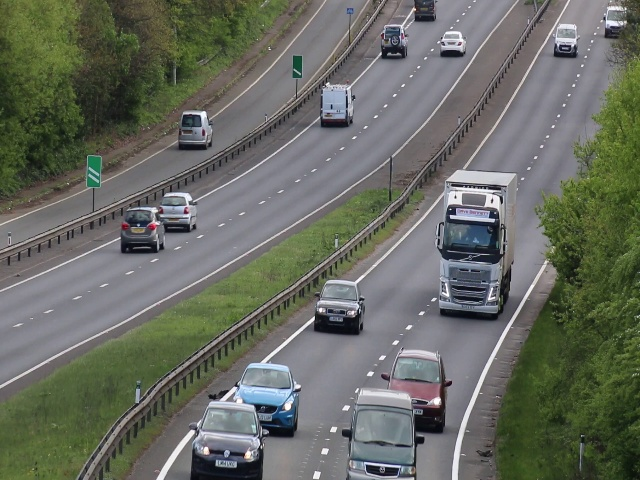car: (435, 199, 505, 320), (346, 397, 418, 480), (191, 401, 265, 479), (232, 364, 301, 412), (313, 278, 366, 337), (387, 351, 451, 396), (118, 206, 167, 255), (318, 80, 356, 128), (161, 191, 198, 234), (177, 108, 213, 150), (379, 22, 412, 61), (553, 22, 580, 60), (438, 29, 468, 58), (413, 1, 437, 21)
